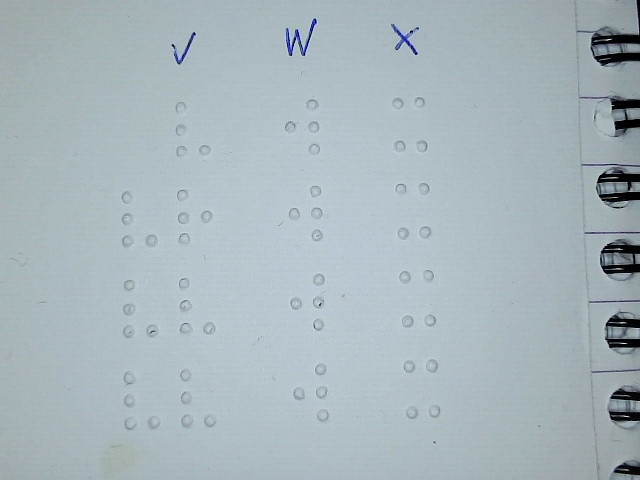V: (122, 370, 162, 431), (179, 366, 219, 427), (174, 99, 212, 158), (121, 189, 159, 248), (178, 276, 216, 335)
W: (292, 360, 330, 423), (283, 97, 321, 156), (286, 183, 324, 242), (288, 271, 326, 330)
X: (402, 357, 442, 419), (390, 93, 428, 152), (394, 180, 432, 239), (398, 268, 436, 327)
